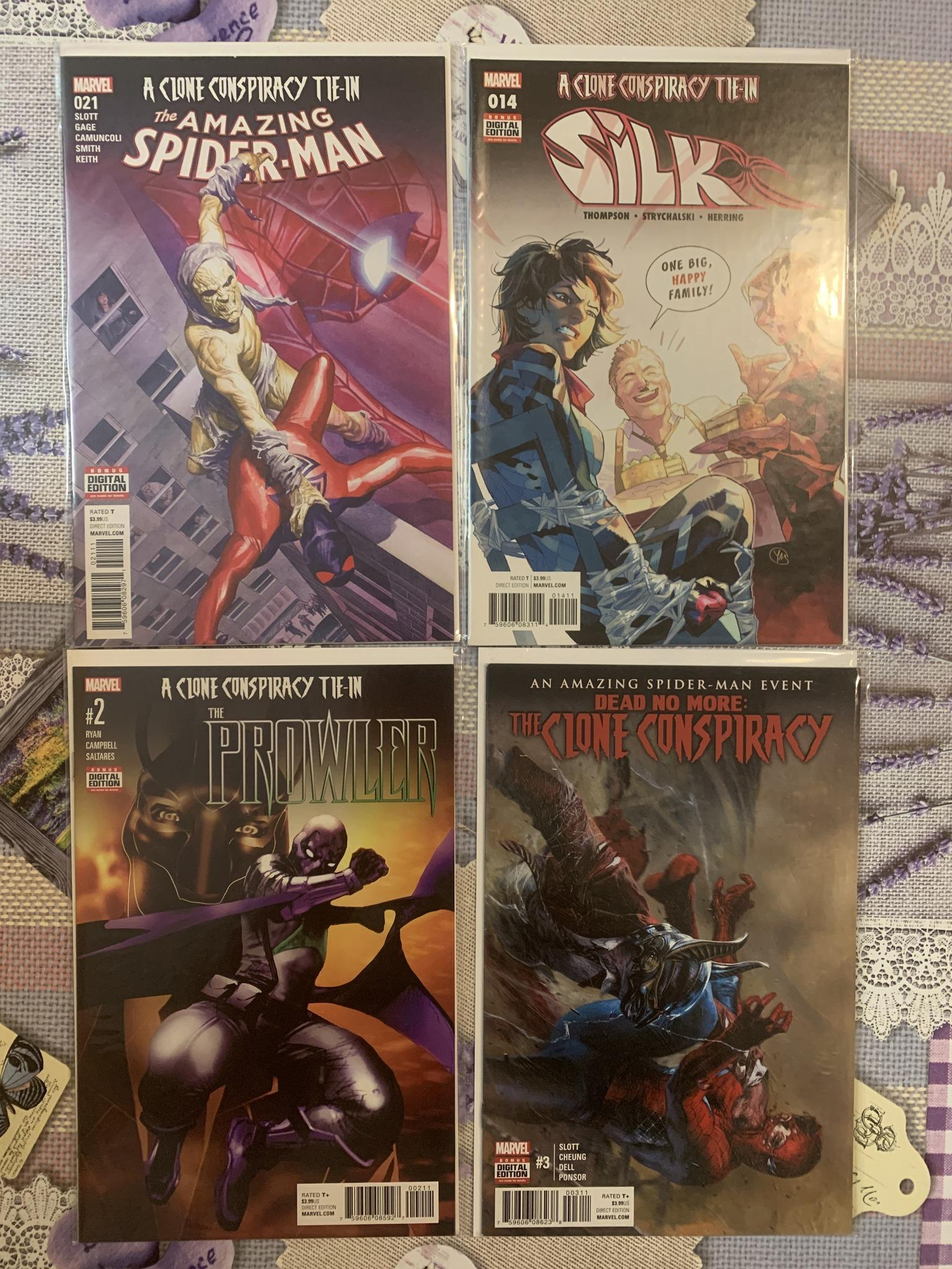comic: (60, 35, 460, 649), (68, 644, 462, 1242), (469, 46, 848, 647), (474, 648, 859, 1237)
